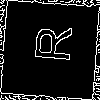R: (25, 24, 73, 63)
